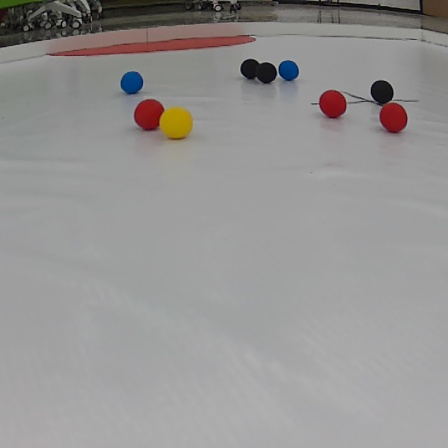black: (370, 75, 398, 104), (240, 58, 258, 83), (258, 62, 276, 85)
blue: (117, 69, 150, 91), (279, 56, 301, 83)
red: (133, 98, 166, 131), (319, 85, 354, 116), (378, 101, 407, 133)
red_base: (42, 32, 264, 51)
yellow: (159, 107, 192, 139)
